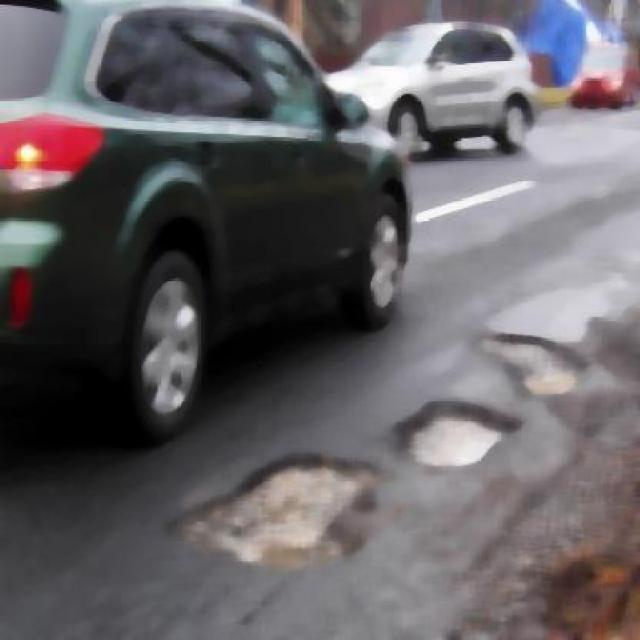Buraco: (156, 447, 391, 576), (386, 395, 526, 472), (465, 329, 596, 402)
